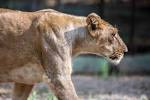lion: (1, 10, 132, 100)
